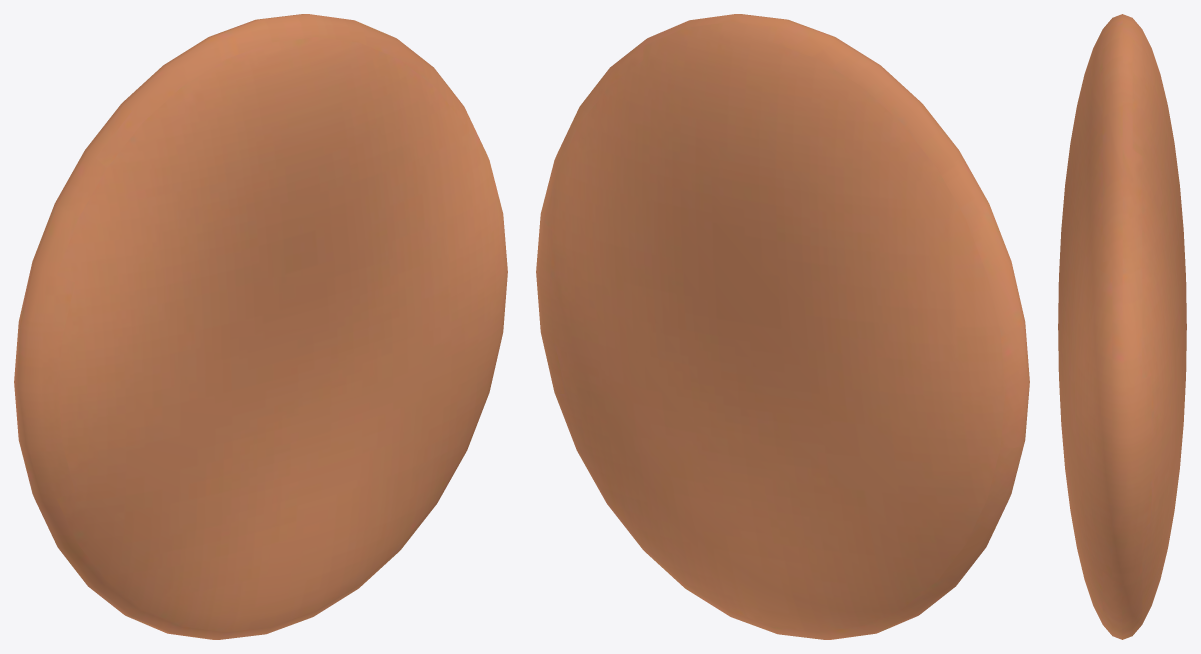
Rendered from item_scale.glb.
The picture shows the model from 3 angles, left to right: view 1: azimuth 30°, elevation 25°; view 2: azimuth 150°, elevation 25°; view 3: azimuth 270°, elevation 25°; orthographic projection. The views are drawn at different scales.
Visible parts, largest first — view 1: scale; view 2: scale; view 3: scale.
Boxes of the visible parts, left/top/right/bottom form: scale: left=14, top=14, right=507, bottom=639; scale: left=536, top=14, right=1029, bottom=639; scale: left=1058, top=14, right=1186, bottom=639.
Size of the model in its own units: 0.5 by 0.6 by 0.12.
1 material, 1 textured.
